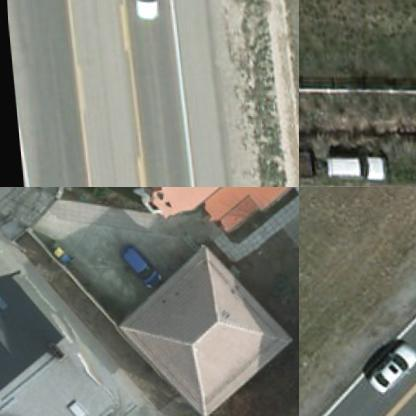car: (357, 327, 415, 395), (324, 150, 390, 184), (122, 237, 162, 287), (128, 0, 160, 18)
